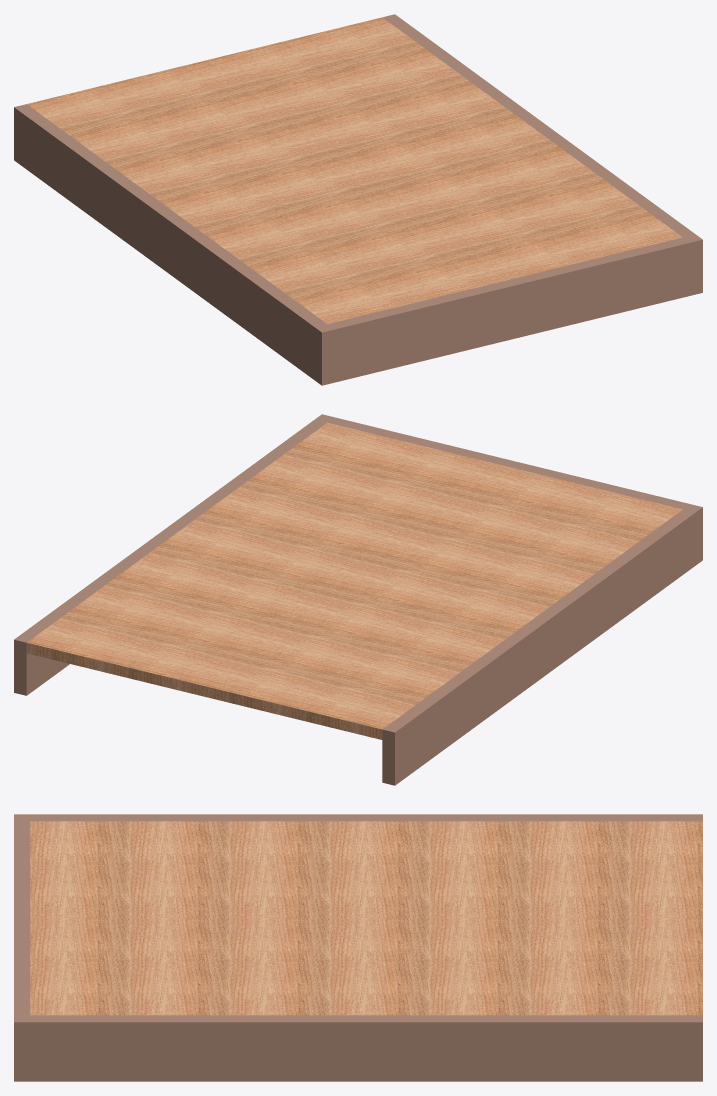
3 views of the same model, one above another, from view 1: azimuth 30°, elevation 25°; view 2: azimuth 150°, elevation 25°; view 3: azimuth 270°, elevation 25° (orthographic). The views are drawn at different scales.
Parts seen in each view (by area): view 1: 0_3_1_1_2_2_2_3_3; view 2: 0_3_1_1_2_2_2_3_3; view 3: 0_3_1_1_2_2_2_3_3.
Part boxes in pixels (bbox=[...]): 0_3_1_1_2_2_2_3_3: bbox=[14, 14, 702, 385]; 0_3_1_1_2_2_2_3_3: bbox=[14, 414, 702, 785]; 0_3_1_1_2_2_2_3_3: bbox=[14, 814, 702, 1081].
Size of the model in its own units: 1.5 by 0.2 by 2.1.
2 materials, 1 textured.
